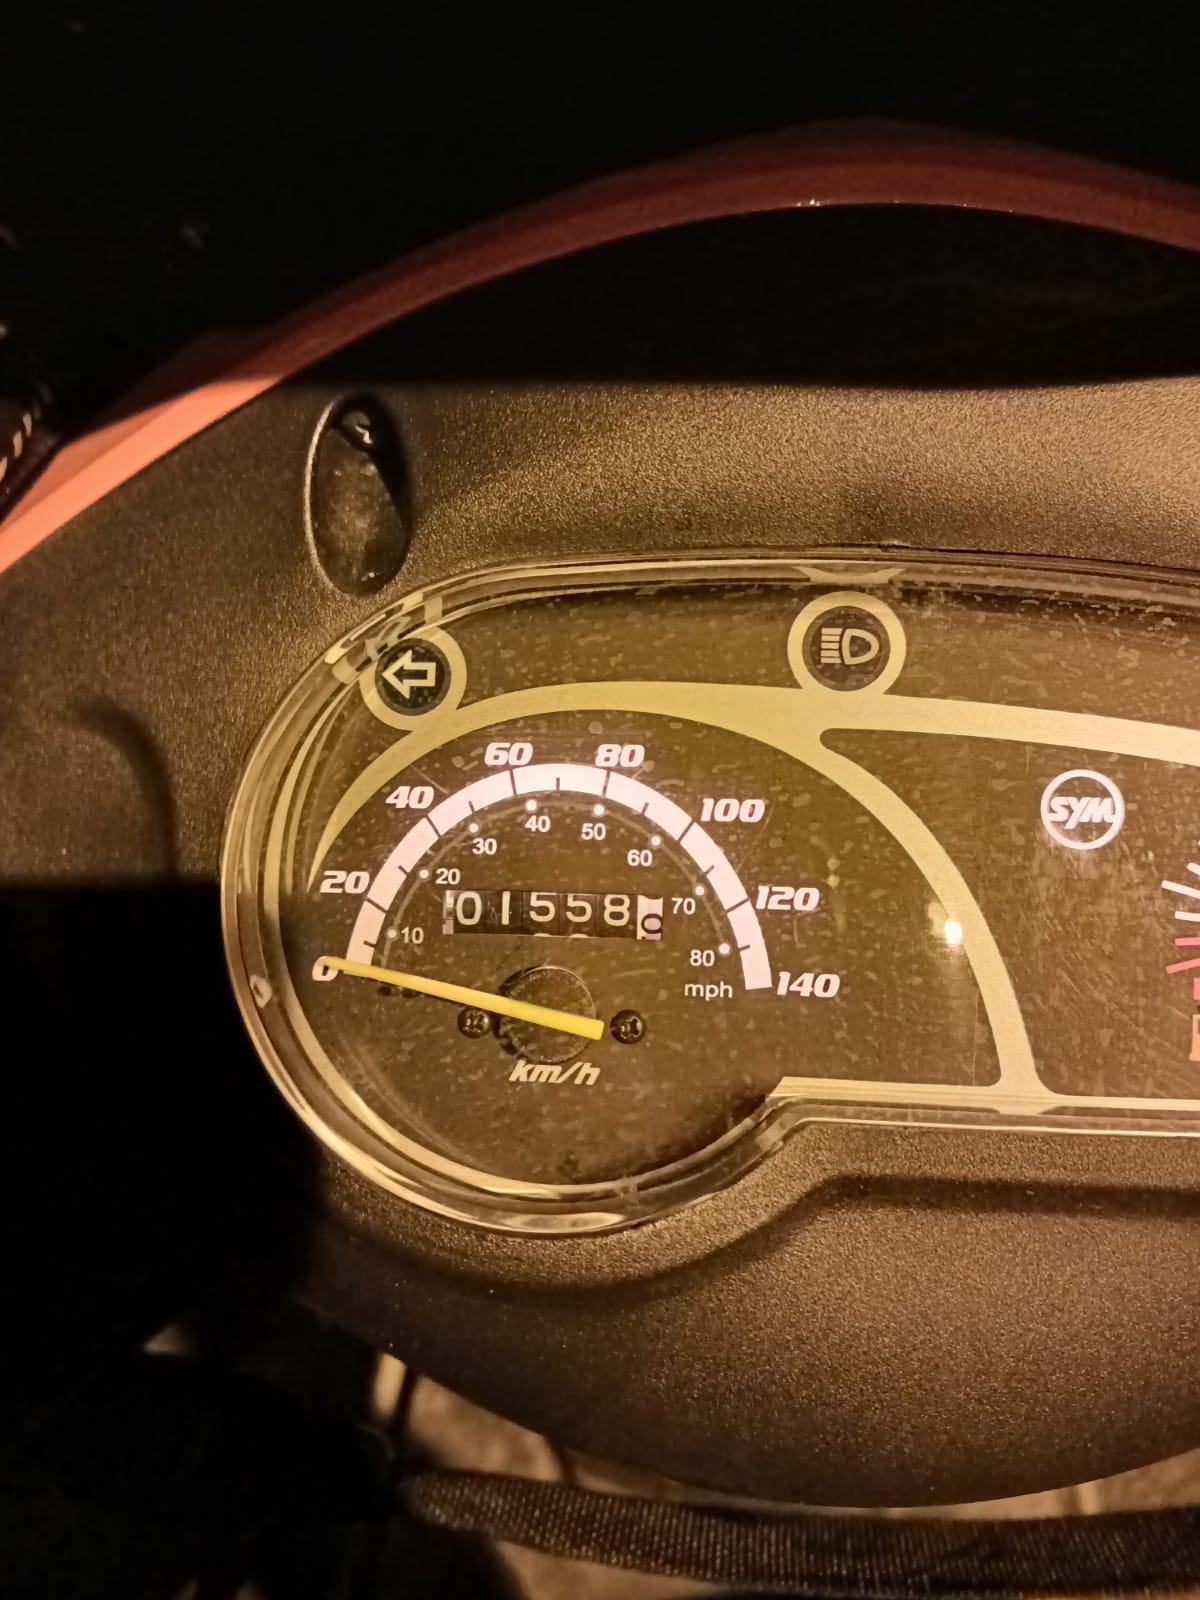0: (453, 887, 484, 929)
1: (494, 886, 514, 932)
5: (526, 886, 556, 930), (565, 889, 597, 927)
8: (601, 891, 632, 934)
9: (639, 910, 666, 942)
odometer: (437, 884, 671, 944)
